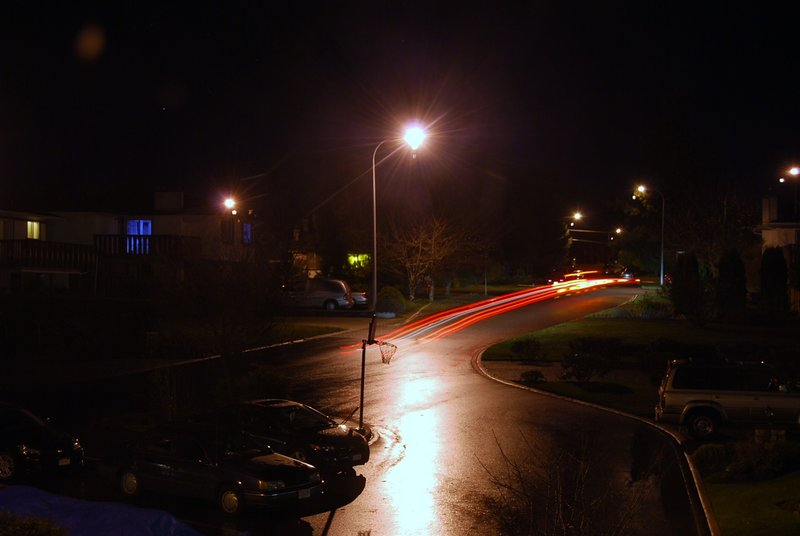car: (267, 274, 370, 315)
